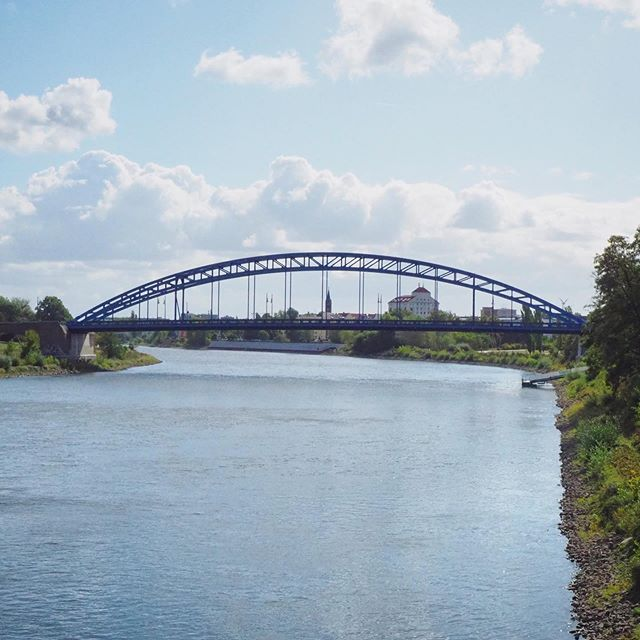building: (50, 254, 597, 355)
river: (1, 384, 549, 640)
sky: (18, 1, 640, 276)
vegetation: (578, 271, 640, 640)
